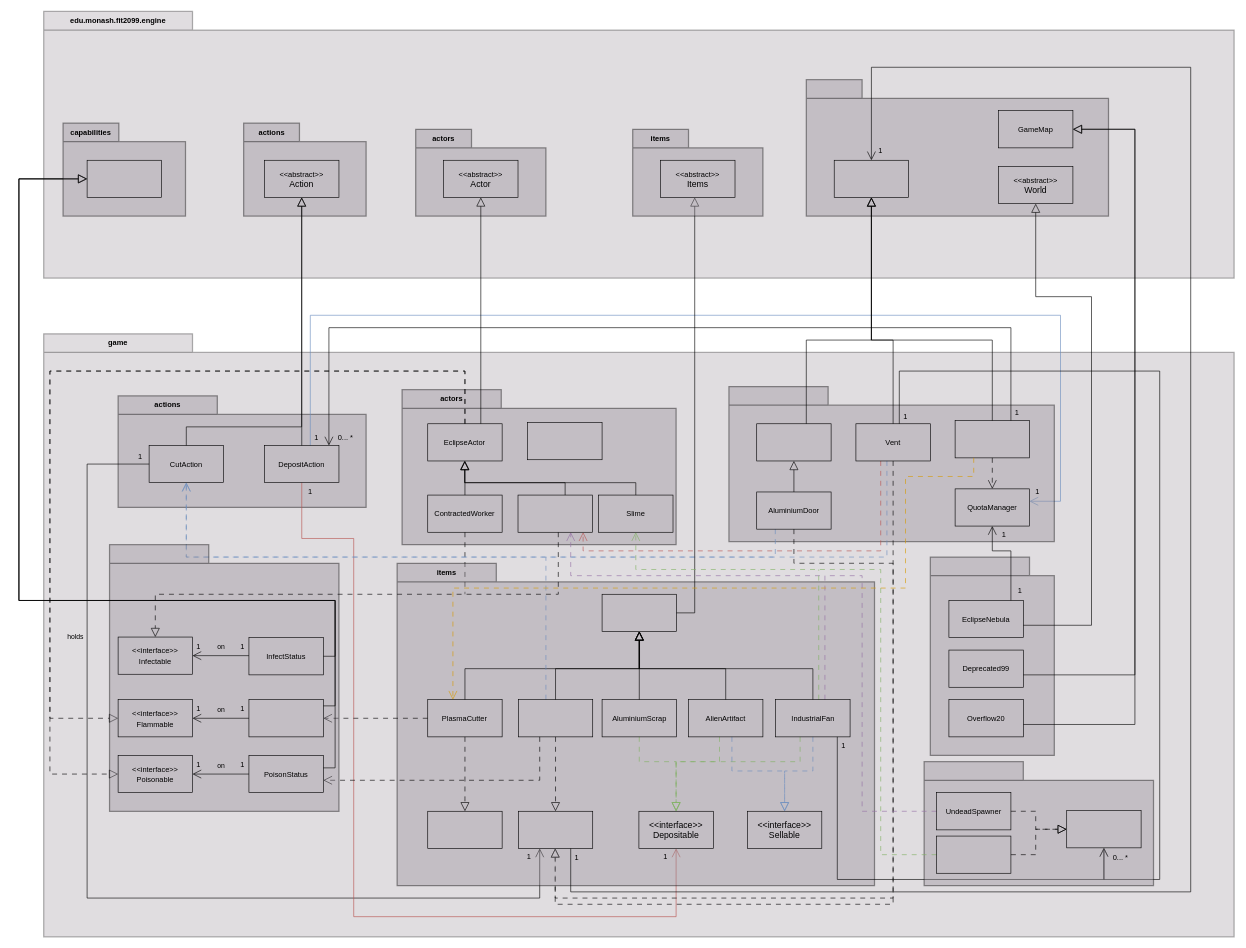
This 1246x948 diagram has some shape labels left out. Each missing label, with the box of its shape:
<<abstract>> Door: (756, 423, 831, 461)
<<abstract>> Ground: (834, 160, 909, 197)
<<enum>> EclipseStatistics: (527, 422, 602, 460)
<<interface>> Buyable: (427, 811, 502, 848)
<<interface>> Cuttable: (518, 811, 593, 848)
<<interface>> Spawner: (1066, 810, 1141, 848)
<<interface>> Status: (86, 160, 162, 197)
AlienCube: (518, 699, 593, 737)
BurnStatus: (248, 699, 323, 737)
EclipseItem: (601, 594, 676, 631)
grounds: (728, 386, 1055, 542)
locations: (929, 556, 1055, 756)
positions: (805, 79, 1109, 216)
SlimeSpawner: (936, 835, 1011, 873)
spawners: (923, 761, 1154, 886)
statuses: (109, 544, 339, 812)
SuperComputer: (954, 420, 1030, 458)
Undead: (517, 494, 592, 532)
